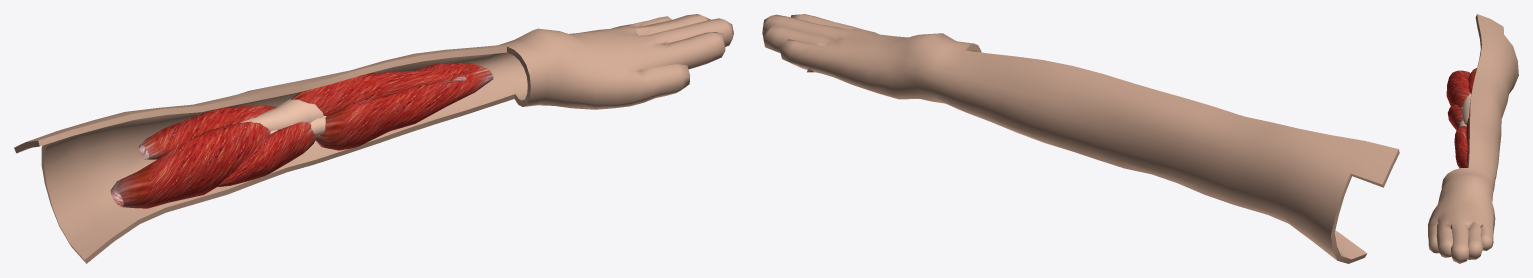
The model's file is muslce_body.fbx.
The picture shows the model from 3 angles, left to right: view 1: azimuth 30°, elevation 25°; view 2: azimuth 150°, elevation 25°; view 3: azimuth 270°, elevation 25°; orthographic projection. The views are drawn at different scales.
Parts seen in each view (by area): view 1: polySurface6, muscils:pCylinder2, pCylinder3, pCylinder6, pCylinder7, pCylinder2, pSphere2, pCylinder5; view 2: polySurface6; view 3: polySurface6, muscils:pCylinder2, pCylinder3, pCylinder7, pSphere2, pCylinder2, pCylinder6.
Part boxes in pixels (x1=…): polySurface6: x1=14, y1=14, x2=733, y2=263; muscils:pCylinder2: x1=110, y1=121, x2=270, y2=208; pCylinder3: x1=315, y1=67, x2=493, y2=150; pCylinder6: x1=291, y1=70, x2=466, y2=116; pCylinder7: x1=216, y1=121, x2=317, y2=187; pCylinder2: x1=138, y1=105, x2=276, y2=159; pSphere2: x1=240, y1=99, x2=323, y2=130; pCylinder5: x1=412, y1=63, x2=489, y2=82; polySurface6: x1=762, y1=14, x2=1399, y2=263; polySurface6: x1=1428, y1=14, x2=1518, y2=263; muscils:pCylinder2: x1=1446, y1=70, x2=1470, y2=107; pCylinder3: x1=1454, y1=126, x2=1467, y2=168; pCylinder7: x1=1447, y1=104, x2=1462, y2=130; pSphere2: x1=1462, y1=92, x2=1471, y2=124; pCylinder2: x1=1468, y1=68, x2=1476, y2=94; pCylinder6: x1=1466, y1=118, x2=1468, y2=166.
Bounding box in the file's own units: 145 × 26.39 × 25.91.
